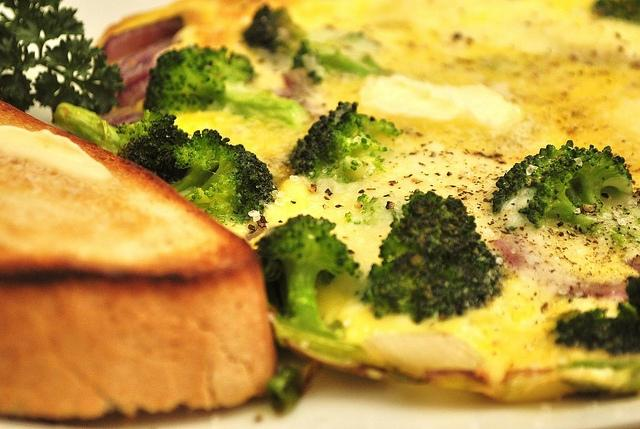broccoli: (353, 190, 504, 324), (252, 213, 364, 342), (143, 43, 312, 127), (492, 140, 633, 234), (54, 102, 190, 184), (178, 140, 278, 227), (288, 100, 388, 182), (556, 276, 640, 355), (243, 3, 339, 57), (292, 38, 396, 85), (268, 364, 304, 410)
onion: (364, 333, 479, 380), (282, 68, 328, 108), (556, 277, 628, 302), (116, 68, 150, 110)
